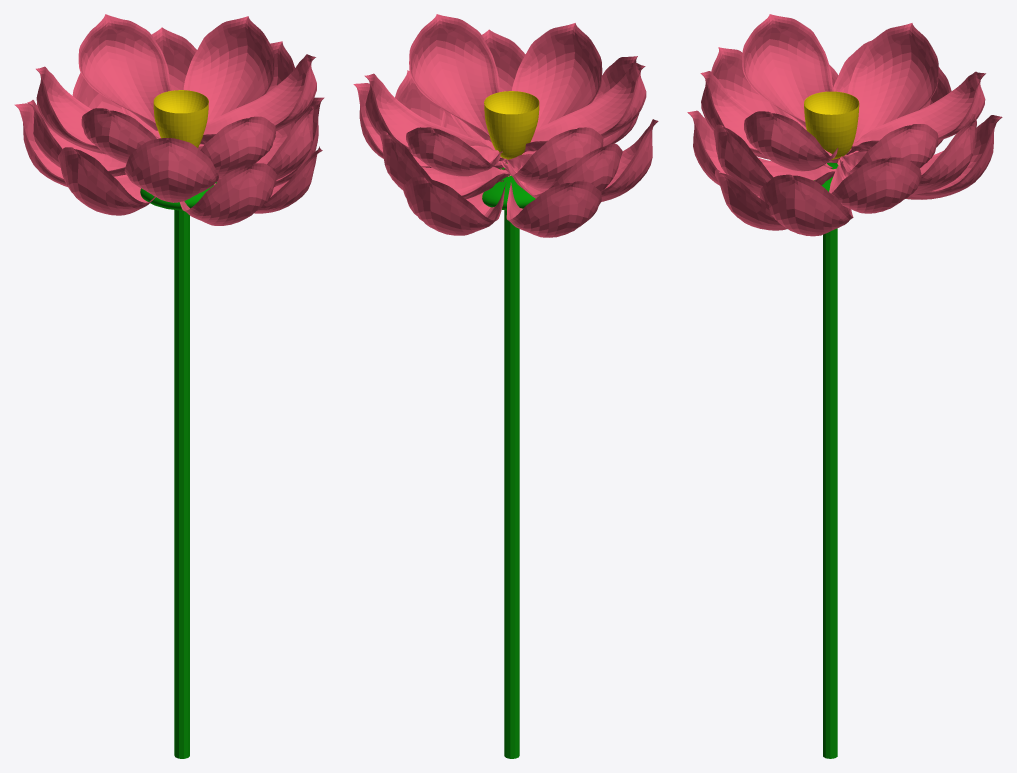
File: Lotus085.fbx
3 renders of one model, left to right at view 1: azimuth 30°, elevation 25°; view 2: azimuth 150°, elevation 25°; view 3: azimuth 270°, elevation 25°, orthographic.
Parts seen in each view (by area): view 1: pCylinder1, nurbsToPoly23, nurbsToPoly19, nurbsToPoly16, nurbsToPoly8, nurbsToPoly11, nurbsToPoly22, nurbsToPoly18, nurbsToPoly20, pSphere3, nurbsToPoly21, nurbsToPoly13 (+8 smaller); view 2: pCylinder1, nurbsToPoly22, nurbsToPoly18, nurbsToPoly10, nurbsToPoly12, nurbsToPoly21, nurbsToPoly20, pSphere3, nurbsToPoly23, nurbsToPoly17, nurbsToPoly19, nurbsToPoly14 (+6 smaller); view 3: pCylinder1, nurbsToPoly20, nurbsToPoly21, nurbsToPoly9, nurbsToPoly15, nurbsToPoly22, nurbsToPoly23, pSphere3, nurbsToPoly13, nurbsToPoly19, nurbsToPoly17, nurbsToPoly18 (+5 smaller).
Boxes of the visible parts, x1,y1,x2,y2 form: pCylinder1: (174, 210, 189, 758); nurbsToPoly23: (78, 14, 171, 130); nurbsToPoly19: (183, 16, 274, 122); nurbsToPoly16: (124, 138, 218, 202); nurbsToPoly8: (180, 163, 276, 225); nurbsToPoly11: (58, 147, 155, 215); nurbsToPoly22: (200, 54, 316, 144); nurbsToPoly18: (198, 116, 275, 179); nurbsToPoly20: (36, 66, 159, 154); pSphere3: (153, 90, 208, 147); nurbsToPoly21: (81, 108, 158, 163); nurbsToPoly13: (216, 106, 313, 182); pCylinder1: (504, 210, 519, 758); nurbsToPoly22: (409, 14, 500, 142); nurbsToPoly18: (512, 23, 602, 152); nurbsToPoly10: (403, 176, 509, 235); nurbsToPoly12: (506, 174, 601, 237); nurbsToPoly21: (524, 63, 646, 151); nurbsToPoly20: (504, 127, 603, 188); pSphere3: (484, 91, 539, 159); nurbsToPoly23: (406, 127, 502, 176); nurbsToPoly17: (380, 130, 510, 199); nurbsToPoly19: (364, 73, 503, 160); nurbsToPoly14: (501, 143, 622, 198); pCylinder1: (823, 228, 837, 758); nurbsToPoly20: (846, 23, 938, 154); nurbsToPoly21: (742, 14, 833, 127); nurbsToPoly9: (759, 174, 853, 236); nurbsToPoly15: (829, 157, 921, 213); nurbsToPoly22: (744, 111, 838, 171); nurbsToPoly23: (851, 71, 985, 149); pSphere3: (804, 91, 859, 159); nurbsToPoly13: (713, 124, 835, 195); nurbsToPoly19: (841, 124, 938, 173); nurbsToPoly17: (837, 119, 976, 194); nurbsToPoly18: (700, 71, 837, 160).
Bounding box in the file's own units: 19.03 × 49.05 × 20.25.
